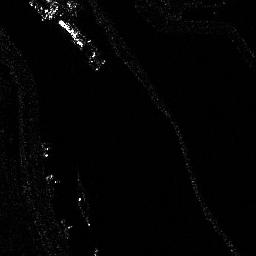ship: (57, 19, 86, 48)
